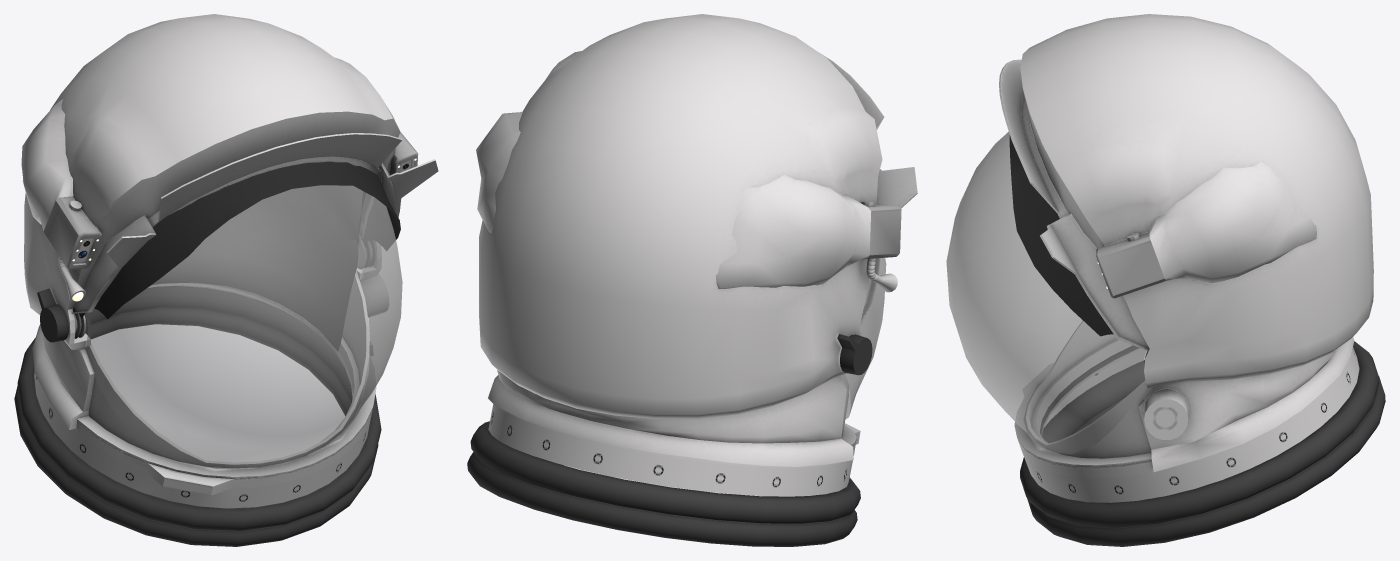
File: Helmet.glb
3 views of the same model, side by side, from view 1: azimuth 30°, elevation 25°; view 2: azimuth 150°, elevation 25°; view 3: azimuth 270°, elevation 25° (orthographic). The views are drawn at different scales.
Parts seen in each view (by area): view 1: Helmet-Body, Black-one_Standard_14_0; view 2: Helmet-Body; view 3: Helmet-Body, Black-one_Standard_14_0.
Boxes of the visible parts, x1,y1,x2,y2 form: Helmet-Body: [14, 14, 438, 546]; Black-one_Standard_14_0: [79, 161, 400, 319]; Helmet-Body: [467, 14, 917, 546]; Helmet-Body: [946, 14, 1385, 546]; Black-one_Standard_14_0: [1009, 135, 1147, 351].
Bounding box in the file's own units: 29.92 × 37.87 × 31.84.
3 materials, 2 textured.
